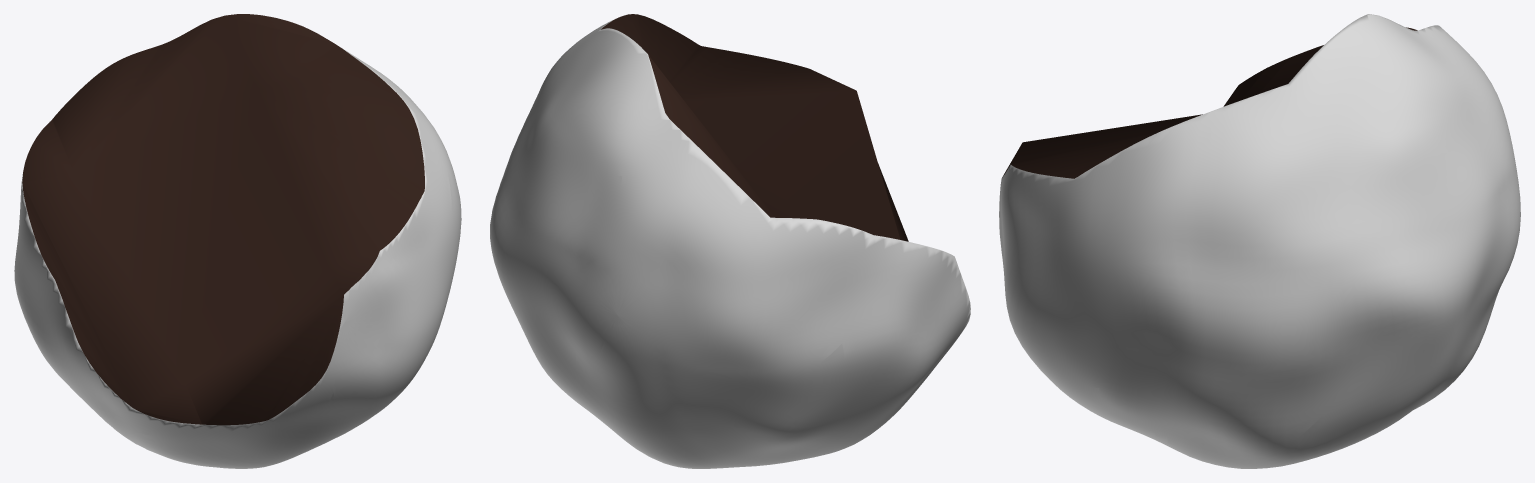
The model's file is Meatball2.fbx.
3 renders of one model, left to right at view 1: azimuth 30°, elevation 25°; view 2: azimuth 150°, elevation 25°; view 3: azimuth 270°, elevation 25°, orthographic. The views are drawn at different scales.
Parts seen in each view (by area): view 1: meatball.001; view 2: meatball.001; view 3: meatball.001.
Part boxes in pixels (x1,y1,x2,y2): meatball.001: (14,14,461,468); meatball.001: (490,14,970,468); meatball.001: (999,14,1520,468).
Size of the model in its own units: 6.27 by 6.05 by 6.25.
